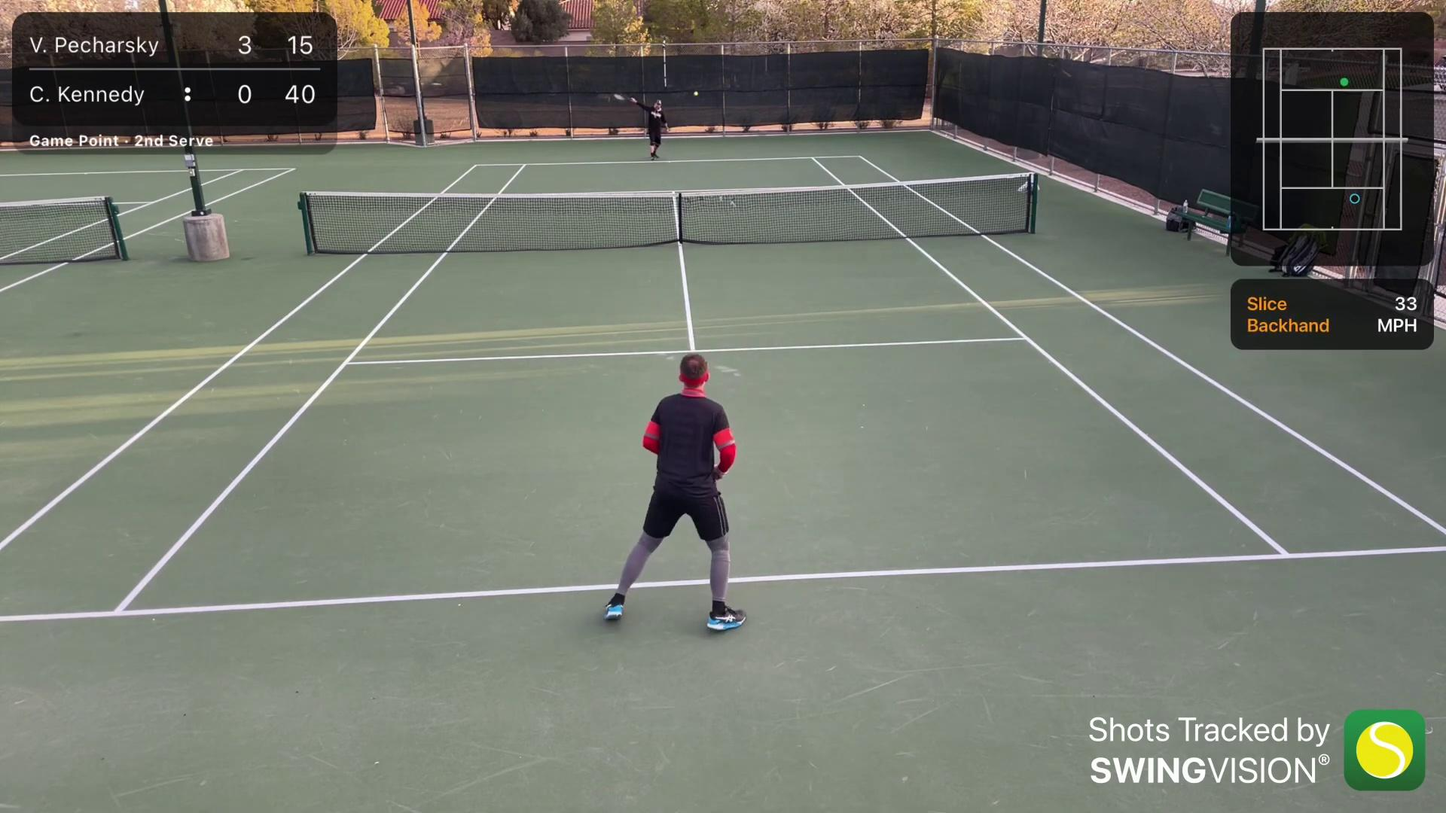ball: (692, 90, 699, 97)
